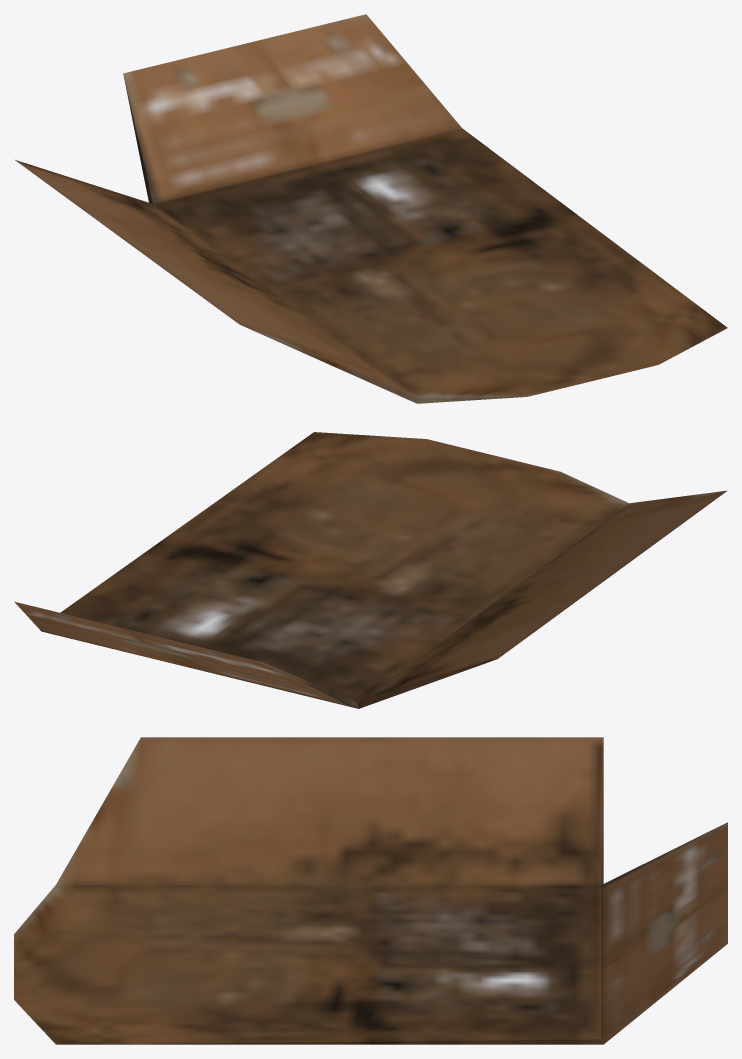
File: Dust_Box.fbx
3 renders of one model, top to bottom at view 1: azimuth 30°, elevation 25°; view 2: azimuth 150°, elevation 25°; view 3: azimuth 270°, elevation 25°, orthographic. The views are drawn at different scales.
Visible parts, largest first — view 1: Dust_Box; view 2: Dust_Box; view 3: Dust_Box.
Boxes of the visible parts, bbox=[...] form: Dust_Box: bbox=[14, 14, 727, 403]; Dust_Box: bbox=[14, 432, 727, 708]; Dust_Box: bbox=[14, 737, 727, 1044].
Size of the model in its own units: 177 by 31.02 by 239.
